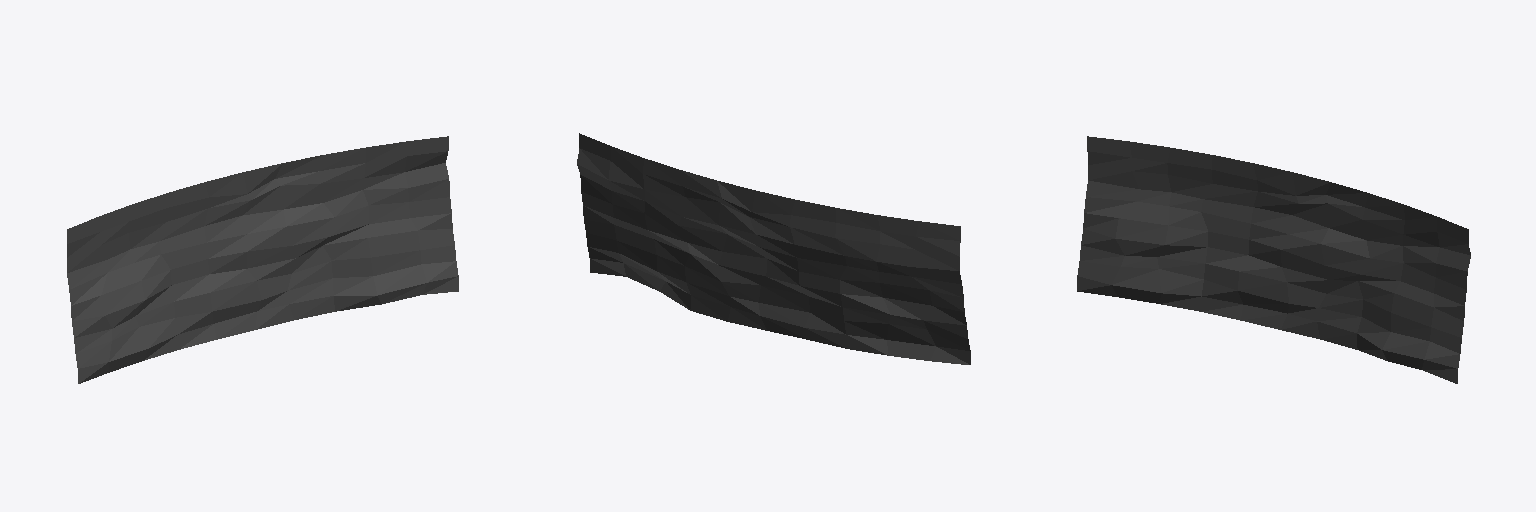
The model's file is Wall.obj.
3 renders of one model, left to right at view 1: azimuth 30°, elevation 25°; view 2: azimuth 150°, elevation 25°; view 3: azimuth 330°, elevation 25°, orthographic.
Visible parts, largest first — view 1: Wall; view 2: Wall; view 3: Wall.
Boxes of the visible parts, box(x1,y1,x2,y2) form: Wall: box(67, 136, 458, 383); Wall: box(577, 133, 970, 364); Wall: box(1077, 136, 1470, 383).
Size of the model in its own units: 499 by 187 by 61.25.